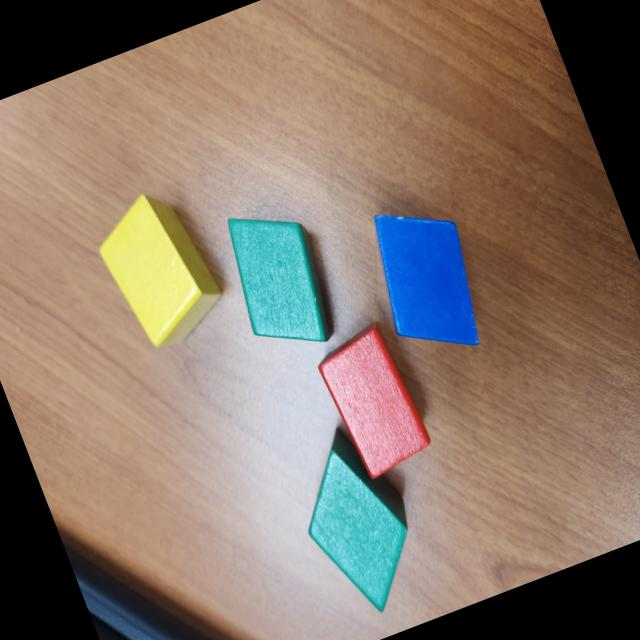blue: (354, 188, 502, 372)
green: (276, 414, 440, 628), (210, 192, 348, 368)
red: (309, 317, 441, 486)
yellow: (84, 180, 236, 362)
